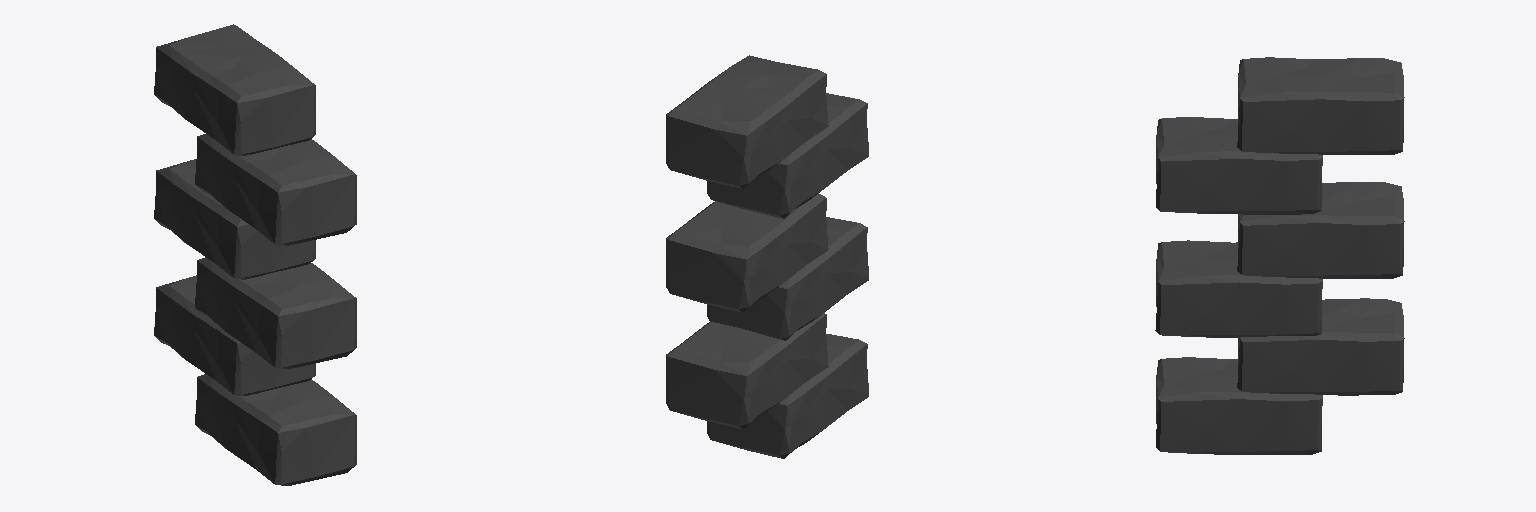
Rendered from wall.obj.
The picture shows the model from 3 angles: view 1: azimuth 30°, elevation 25°; view 2: azimuth 150°, elevation 25°; view 3: azimuth 270°, elevation 25°; orthographic projection.
Visible parts, largest first — view 1: Cube; view 2: Cube; view 3: Cube.
Part boxes in pixels (x1,y1,x2,y2): Cube: (154, 24, 356, 485); Cube: (666, 55, 868, 458); Cube: (1155, 57, 1404, 454).
Size of the model in its own units: 0.3149 by 1.3 by 0.8033.